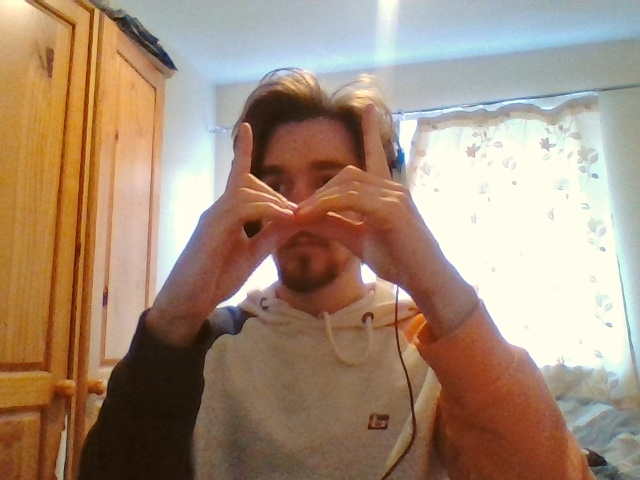meet: (213, 103, 396, 232)
